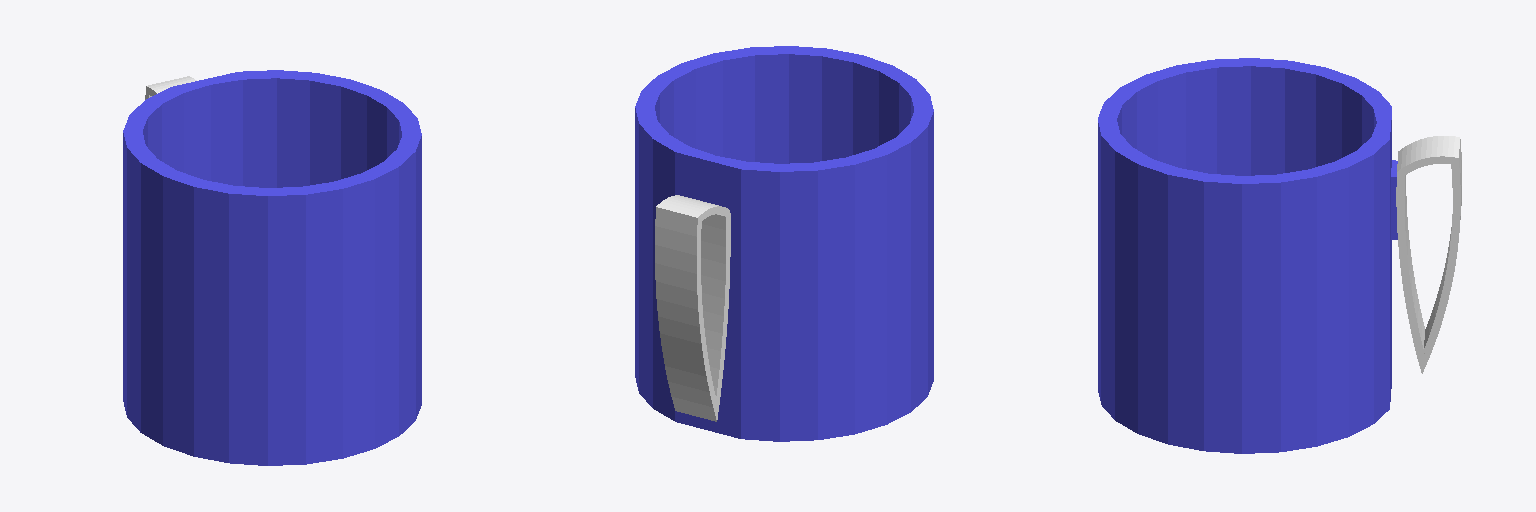
3 views of the same model, side by side, from view 1: azimuth 30°, elevation 25°; view 2: azimuth 150°, elevation 25°; view 3: azimuth 270°, elevation 25° (orthographic).
Visible parts, largest first — view 1: model_normalized.016; view 2: model_normalized.016; view 3: model_normalized.016.
Part boxes in pixels (x1,y1,x2,y2): model_normalized.016: (123,70,421,465); model_normalized.016: (635,46,933,441); model_normalized.016: (1098,58,1461,453).
Bounding box in the file's own units: 0.5357 × 0.5338 × 0.6543.